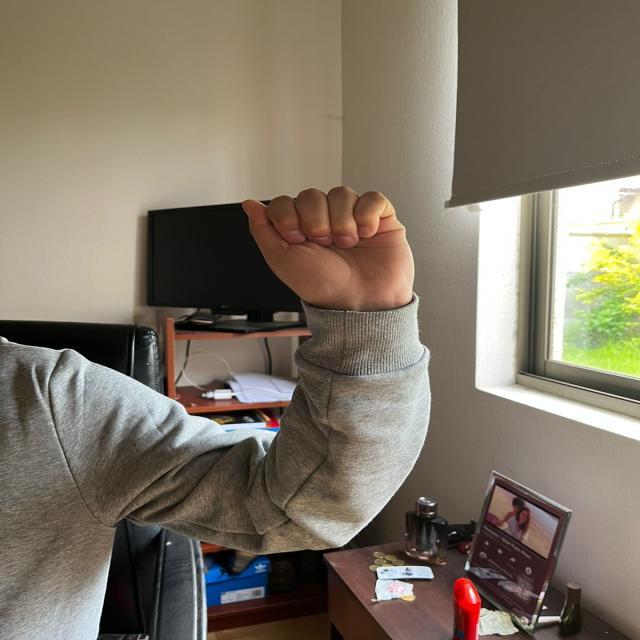A: (239, 182, 420, 313)
